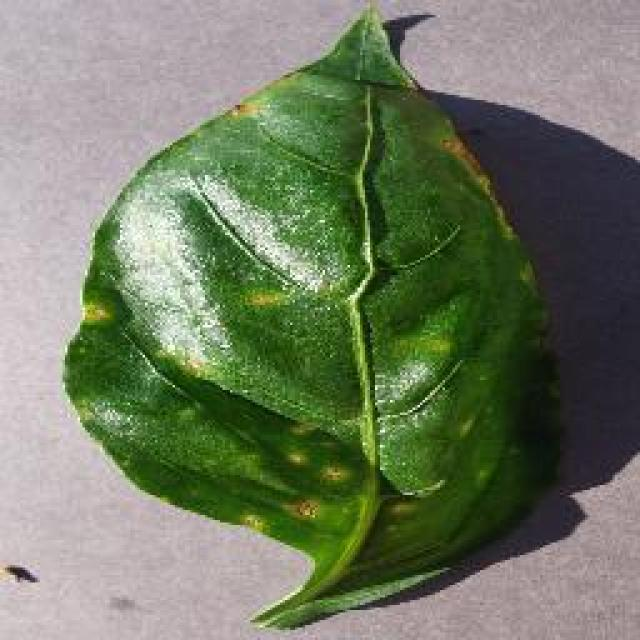Chilli_Bacterial_Spot: (57, 0, 567, 632), (313, 452, 355, 492), (375, 490, 420, 525), (238, 282, 290, 312), (280, 493, 322, 525), (75, 295, 113, 327), (222, 95, 262, 123), (354, 0, 387, 12)
